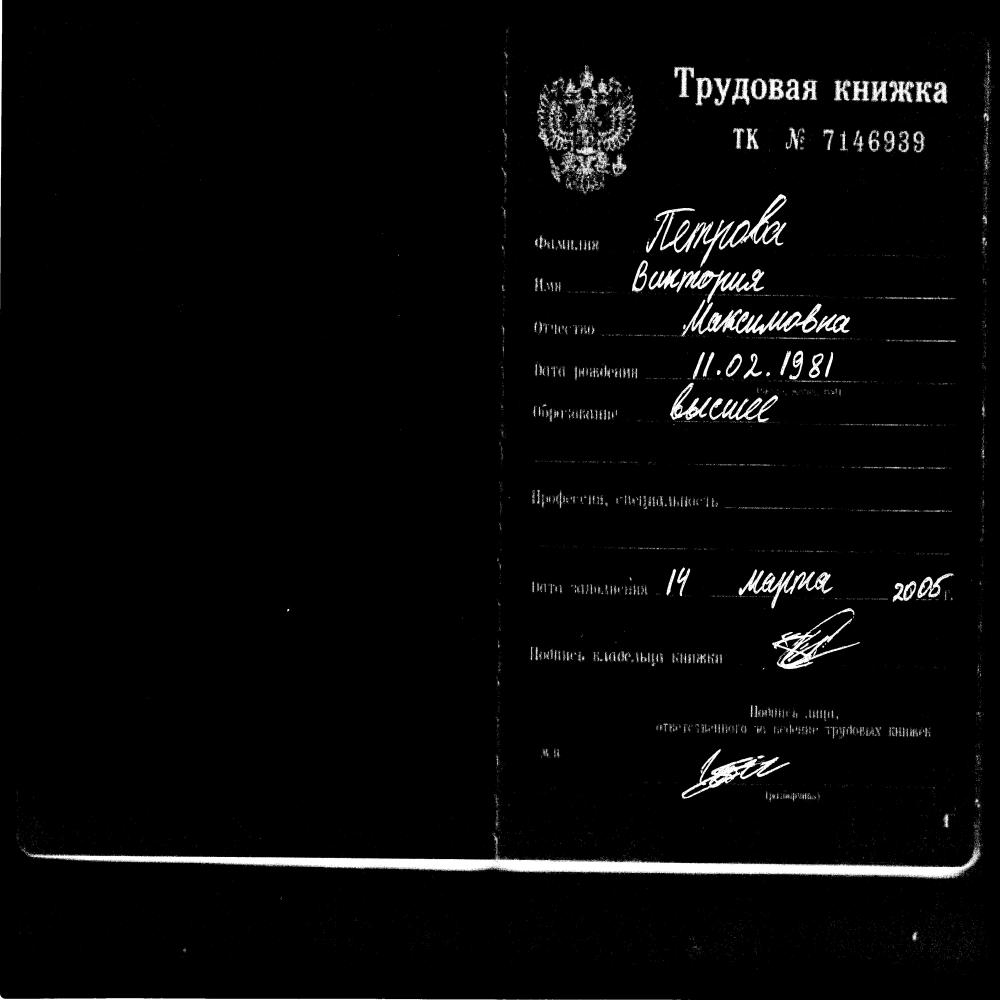rus: (666, 57, 963, 115), (645, 197, 795, 257), (685, 342, 847, 390), (669, 302, 863, 338), (816, 116, 938, 166), (666, 381, 792, 426), (733, 553, 844, 602), (626, 258, 768, 289), (725, 118, 804, 157), (879, 564, 954, 605), (663, 554, 698, 606), (532, 230, 602, 255)
